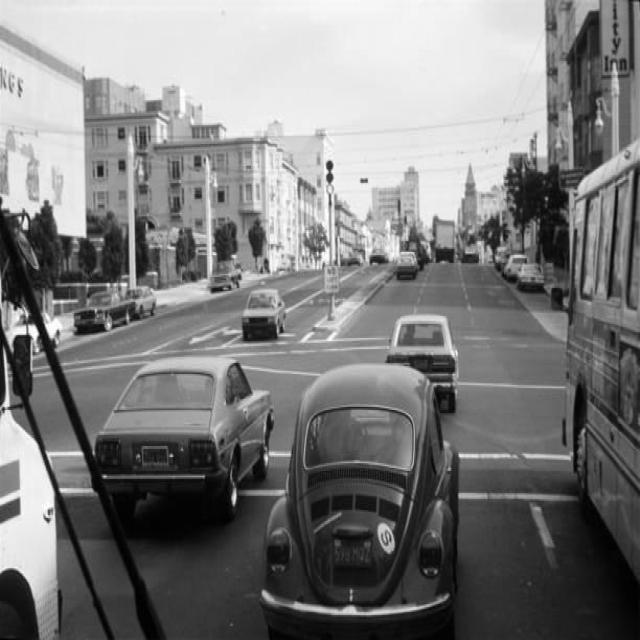car: (273, 366, 459, 640), (93, 360, 276, 515), (391, 313, 461, 411), (73, 284, 126, 328), (245, 285, 283, 341), (394, 250, 420, 282), (520, 260, 542, 291)
